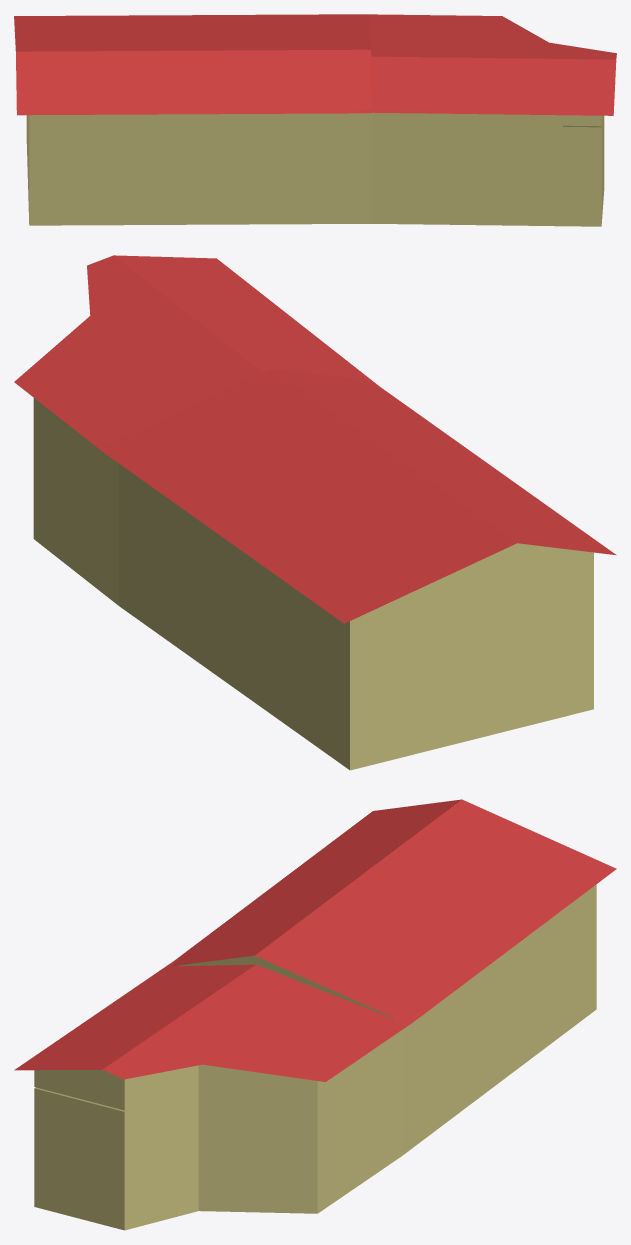
3 renders of one model, top to bottom at view 1: azimuth 30°, elevation 25°; view 2: azimuth 150°, elevation 25°; view 3: azimuth 270°, elevation 25°, orthographic. The views are drawn at different scales.
Visible parts, largest first — view 1: group_9, group_7, group_5, group_3, group_8, group_4; view 2: group_9, group_7, group_3, group_5, group_8, group_4; view 3: group_5, group_7, group_3, group_9, group_8.
Boxes of the visible parts, x1,y1,x2,y2 form: group_9: (26,113,353,225); group_7: (14,14,371,115); group_5: (354,112,604,226); group_3: (353,14,616,115); group_8: (16,51,371,115); group_4: (371,15,616,112); group_9: (119,464,593,770); group_7: (99,369,614,623); group_3: (14,255,382,448); group_5: (33,398,119,606); group_8: (364,384,616,555); group_4: (36,255,212,447); group_5: (34,1030,401,1230); group_7: (172,799,616,1024); group_3: (14,958,408,1081); group_9: (178,884,596,1155); group_8: (186,799,461,959).
Bounding box in the file's own units: 45.94 × 40.54 × 12.67.
